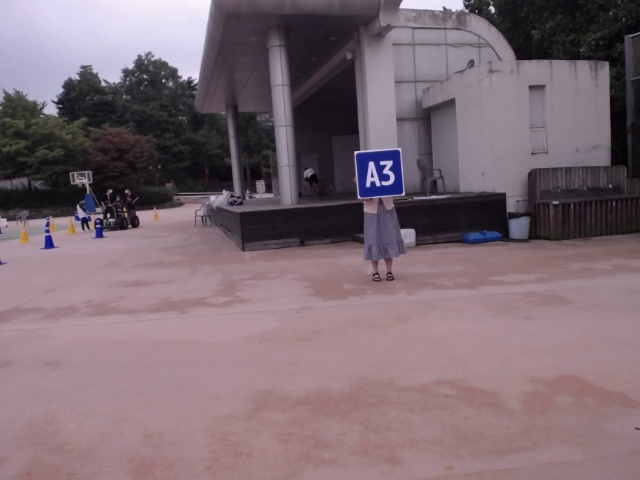delivery_a3: (354, 149, 405, 198)
